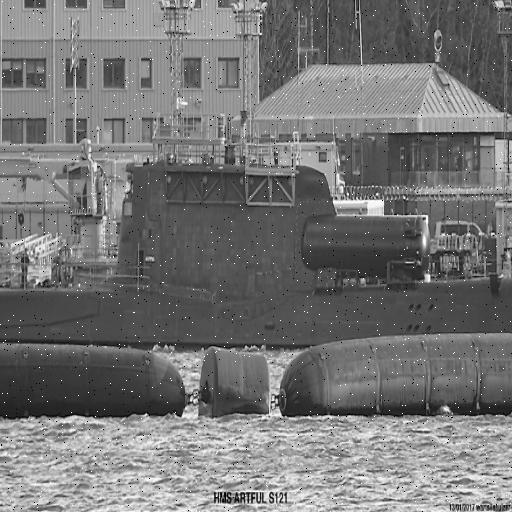submarine: (1, 164, 512, 341)
